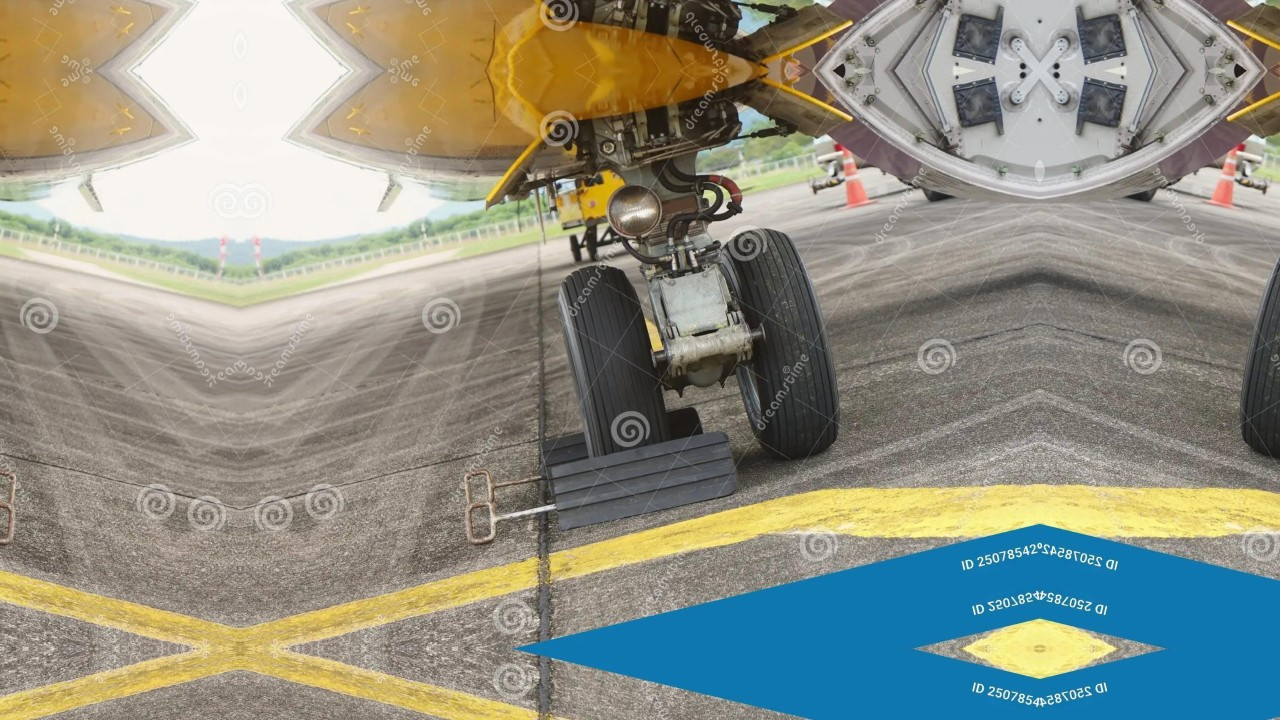chock: (544, 426, 745, 533), (532, 401, 707, 473)
wheel: (702, 221, 849, 464), (548, 254, 676, 458), (1231, 221, 1280, 464)
